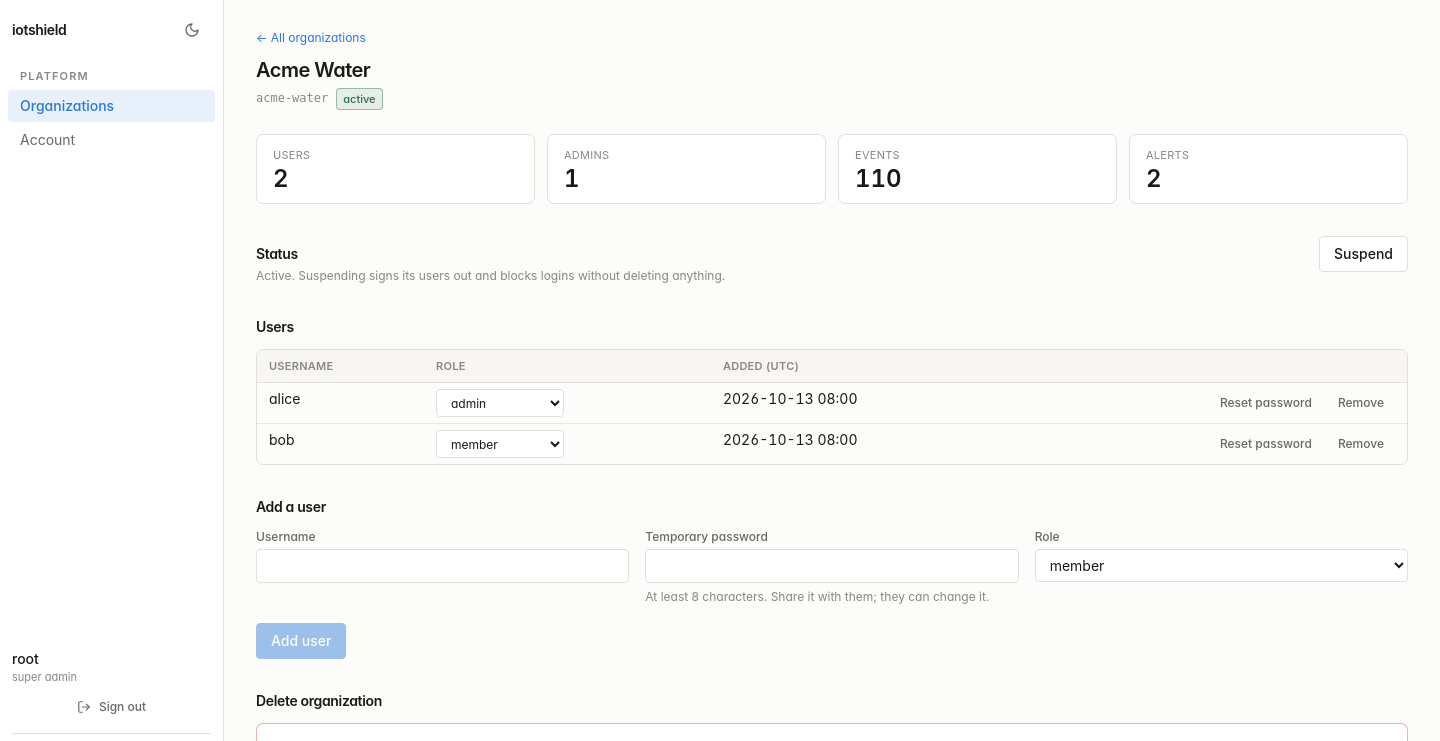
Scenario: the super admin › changes a role, and shows the server's refusal for the last admin
Select "admin" in the dropdown named "Role of bob": (500, 444) [436,430,564,458]
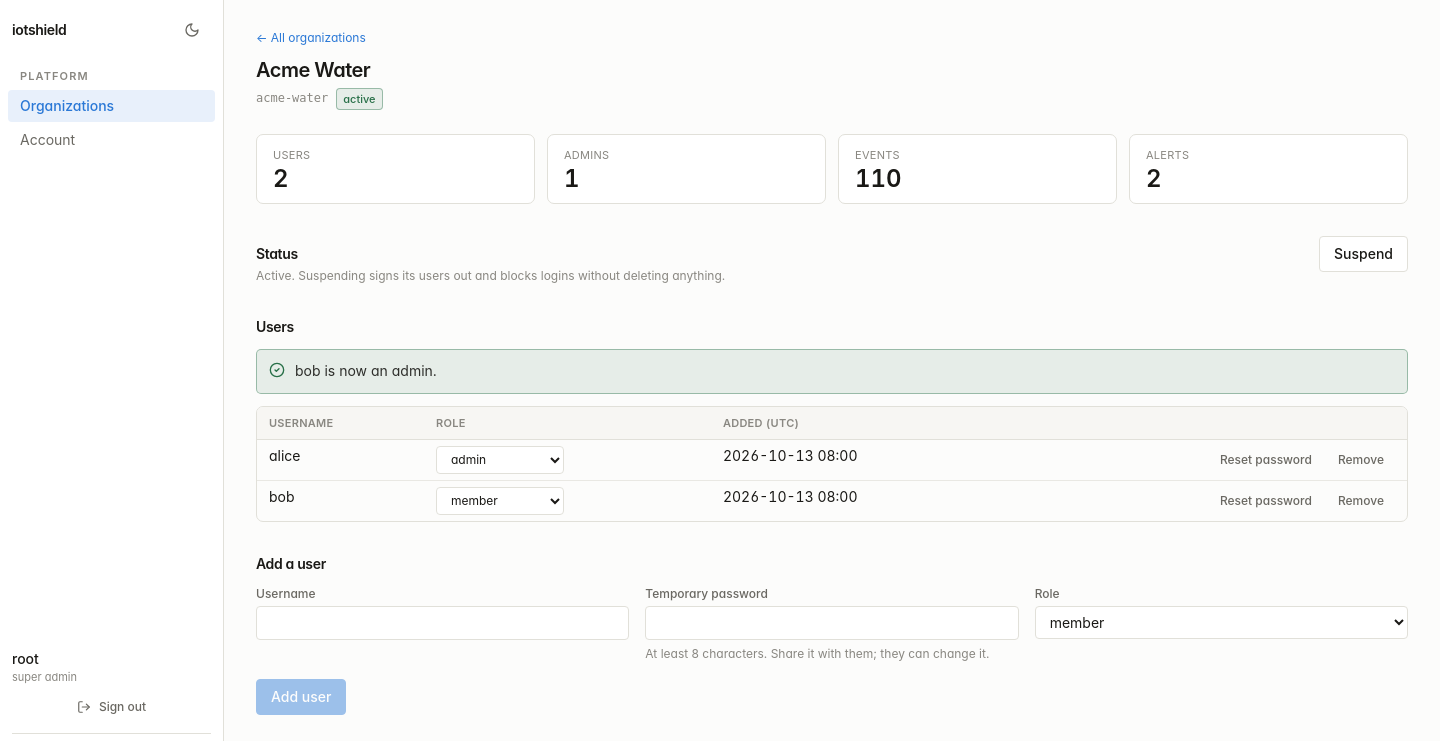
expect the text "bob is now an admin." is shown: met, box [295,360,437,383]
Select "member" in the dropdown named "Role of alice": (500, 460) [436,446,564,474]
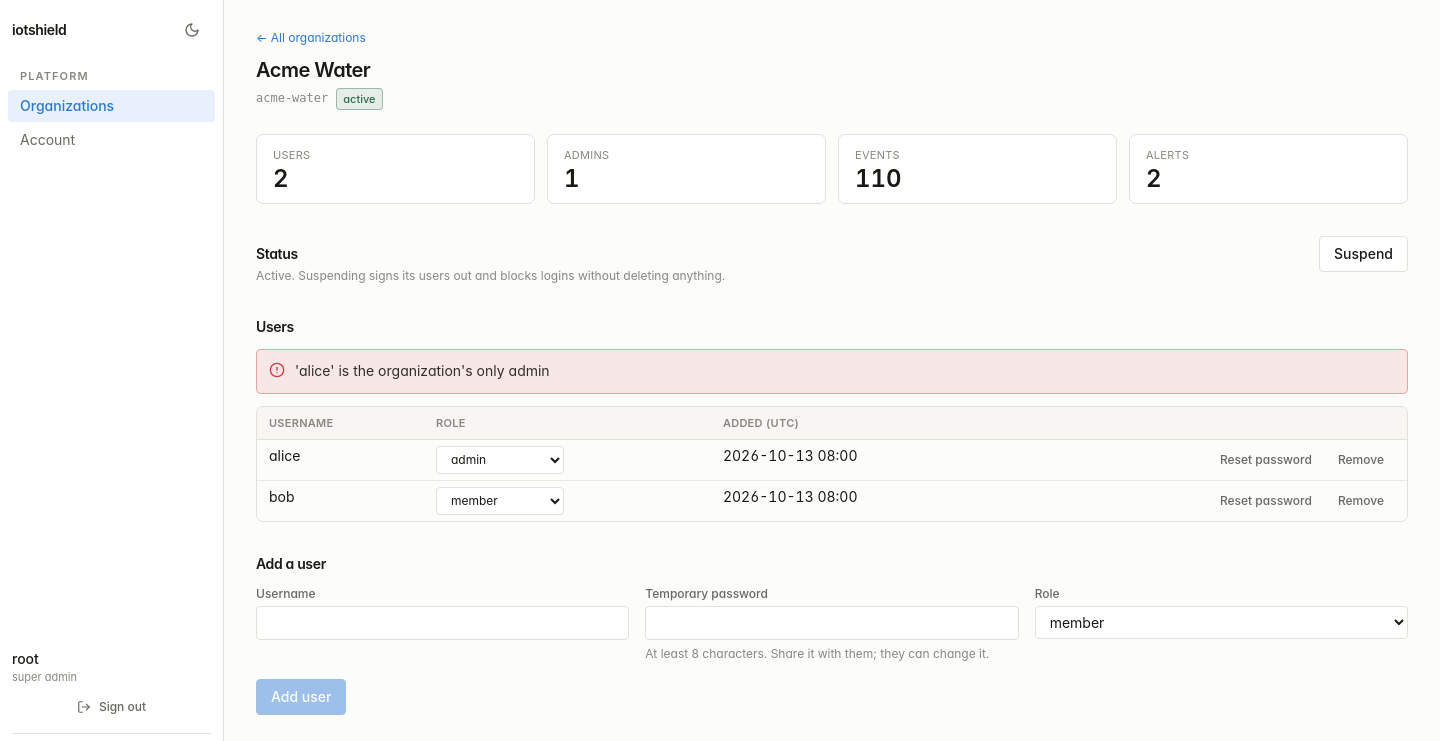
expect the text "'alice' is the organization's only admin" is shown: met, box [295,360,550,383]
